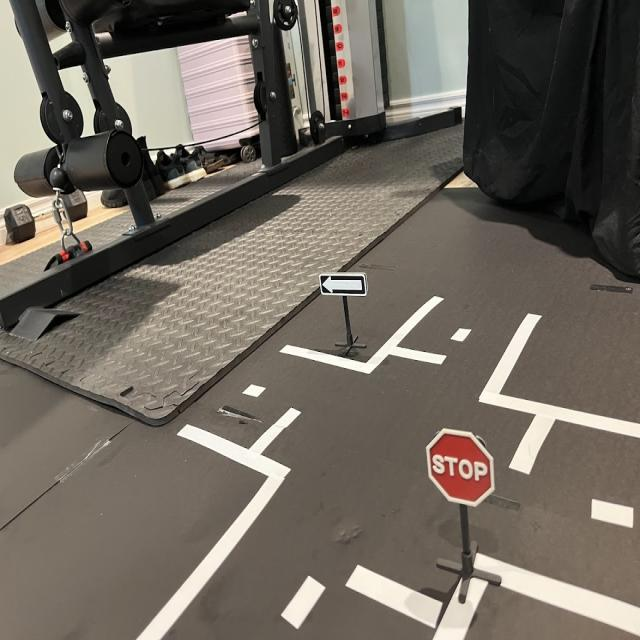sign_oneway_left: (318, 271, 370, 301)
sign_stop: (425, 425, 498, 511)
